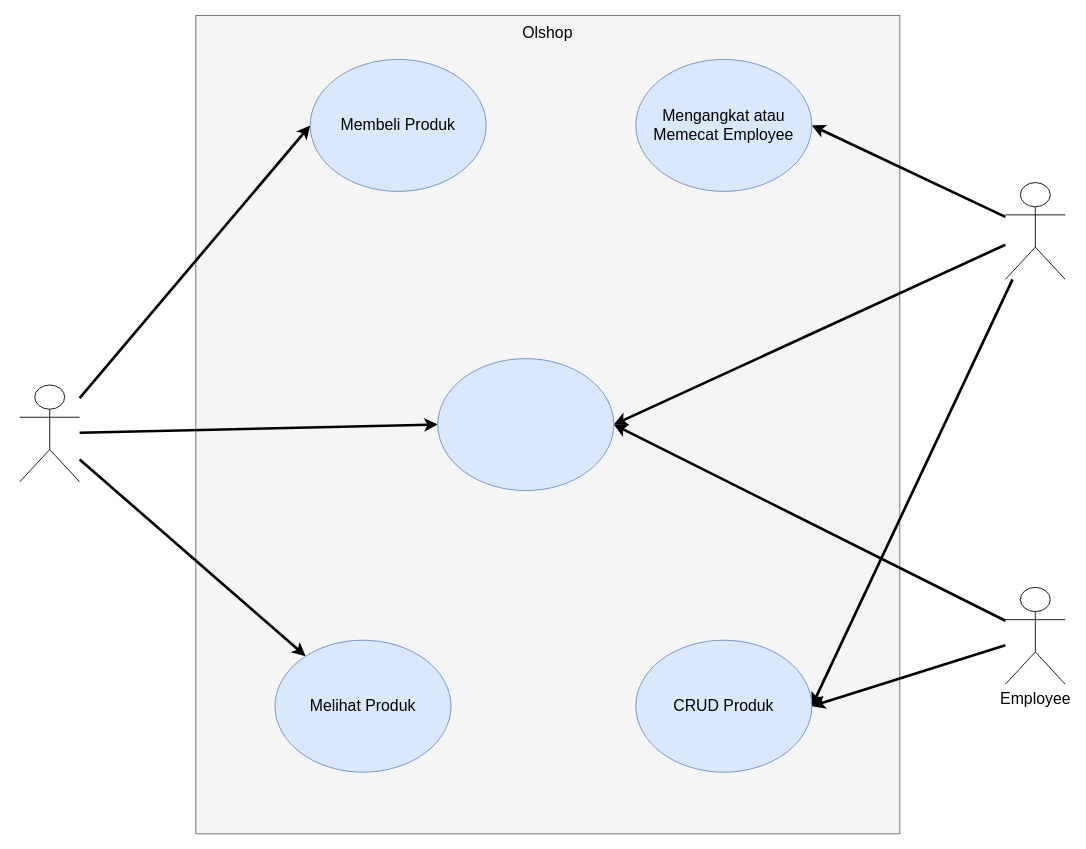
Image size: 1086x849. Some labels were removed from this diagram. Here are the shapes that lost their labels. From the top down, the centre of each, then its label:
(1035,230): Owner
(49,433): Customer
(525,424): Melihat dan Edit Profil
